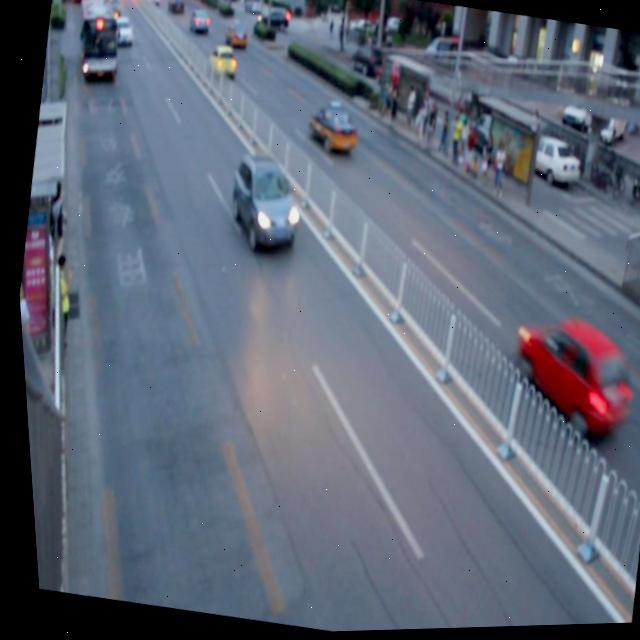car: (495, 311, 630, 450), (218, 152, 306, 258), (300, 99, 359, 162), (203, 45, 239, 85)
van: (68, 0, 128, 81)
